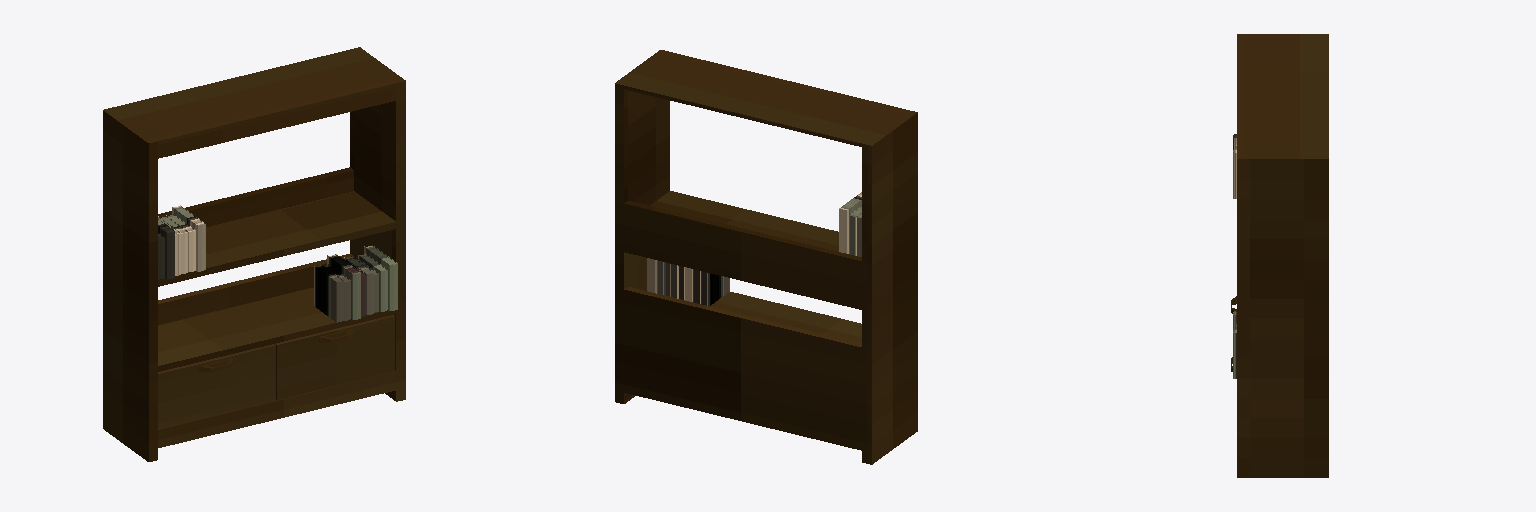
The picture shows the model from 3 angles: view 1: azimuth 30°, elevation 25°; view 2: azimuth 150°, elevation 25°; view 3: azimuth 270°, elevation 25°; orthographic projection.
Visible parts, largest first — view 1: Cube, PlanoFBXASC046026, PlanoFBXASC046022, PlanoFBXASC046011, PlanoFBXASC046012, PlanoFBXASC046003; view 2: Cube, PlanoFBXASC046026; view 3: Cube.
Part boxes in pixels (left/top/right/bottom): Cube: left=103, top=47, right=405, bottom=461; PlanoFBXASC046026: left=314, top=264, right=343, bottom=322; PlanoFBXASC046022: left=327, top=254, right=360, bottom=319; PlanoFBXASC046011: left=172, top=205, right=205, bottom=271; PlanoFBXASC046012: left=364, top=245, right=397, bottom=310; PlanoFBXASC046003: left=158, top=219, right=174, bottom=278; Cube: left=615, top=50, right=917, bottom=464; PlanoFBXASC046026: left=701, top=271, right=729, bottom=305; Cube: left=1231, top=34, right=1328, bottom=477.
Size of the model in its own units: 2.59 by 3.07 by 0.8616.
Materials: 2 (2 with a texture image).